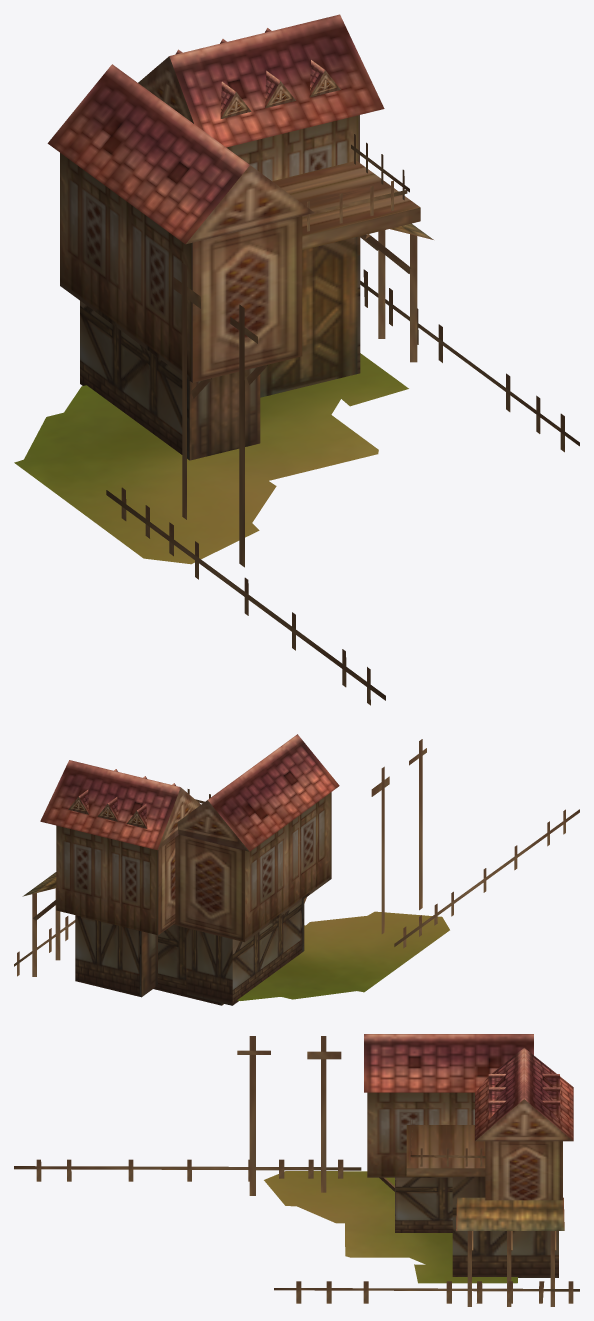
File: Barracks_Level01.FBX
3 views of the same model, one above another, from view 1: azimuth 30°, elevation 25°; view 2: azimuth 150°, elevation 25°; view 3: azimuth 270°, elevation 25° (orthographic). The views are drawn at different scales.
Parts seen in each view (by area): view 1: Barracks_Level01; view 2: Barracks_Level01; view 3: Barracks_Level01.
Part boxes in pixels (<box>): Barracks_Level01: <box>14,14,579,705</box>; Barracks_Level01: <box>14,734,579,1005</box>; Barracks_Level01: <box>14,1034,579,1306</box>.
Bounding box in the file's own units: 789 × 565 × 1460.
